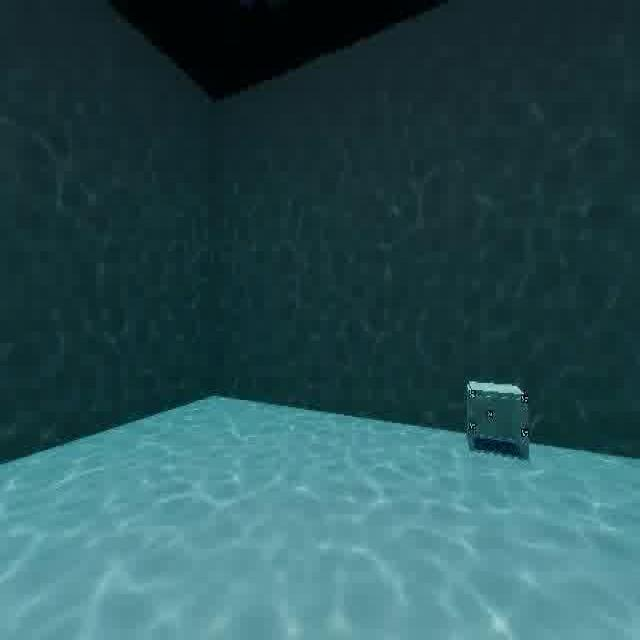Docking Station: (465, 367, 537, 477)
